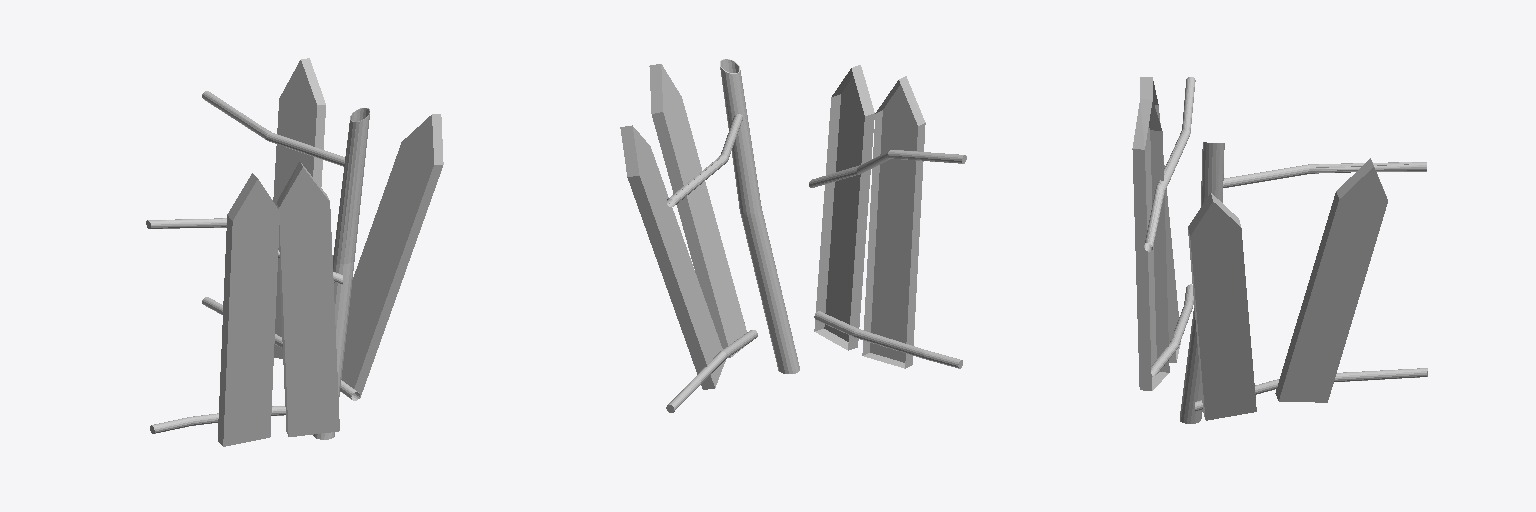
File: dziura_ogrodzenie(old).obj
The picture shows the model from 3 angles: view 1: azimuth 30°, elevation 25°; view 2: azimuth 150°, elevation 25°; view 3: azimuth 270°, elevation 25°; orthographic projection.
Parts seen in each view (by area): view 1: Box001, Box002, Object002; view 2: Box001, Box002, Object002; view 3: Box002, Box001, Object002.
Boxes of the visible parts, box(x1,y1,x2,y2) form: Box001: box(218, 162, 339, 446); Box002: box(273, 58, 443, 398); Object002: box(146, 91, 369, 439); Box001: box(814, 65, 925, 368); Box002: box(620, 64, 747, 389); Object002: box(666, 59, 966, 412); Box002: box(1188, 158, 1387, 420); Box001: box(1132, 77, 1180, 390); Object002: box(1144, 77, 1427, 423).
Bounding box in the file's own units: 252 × 241 × 212.